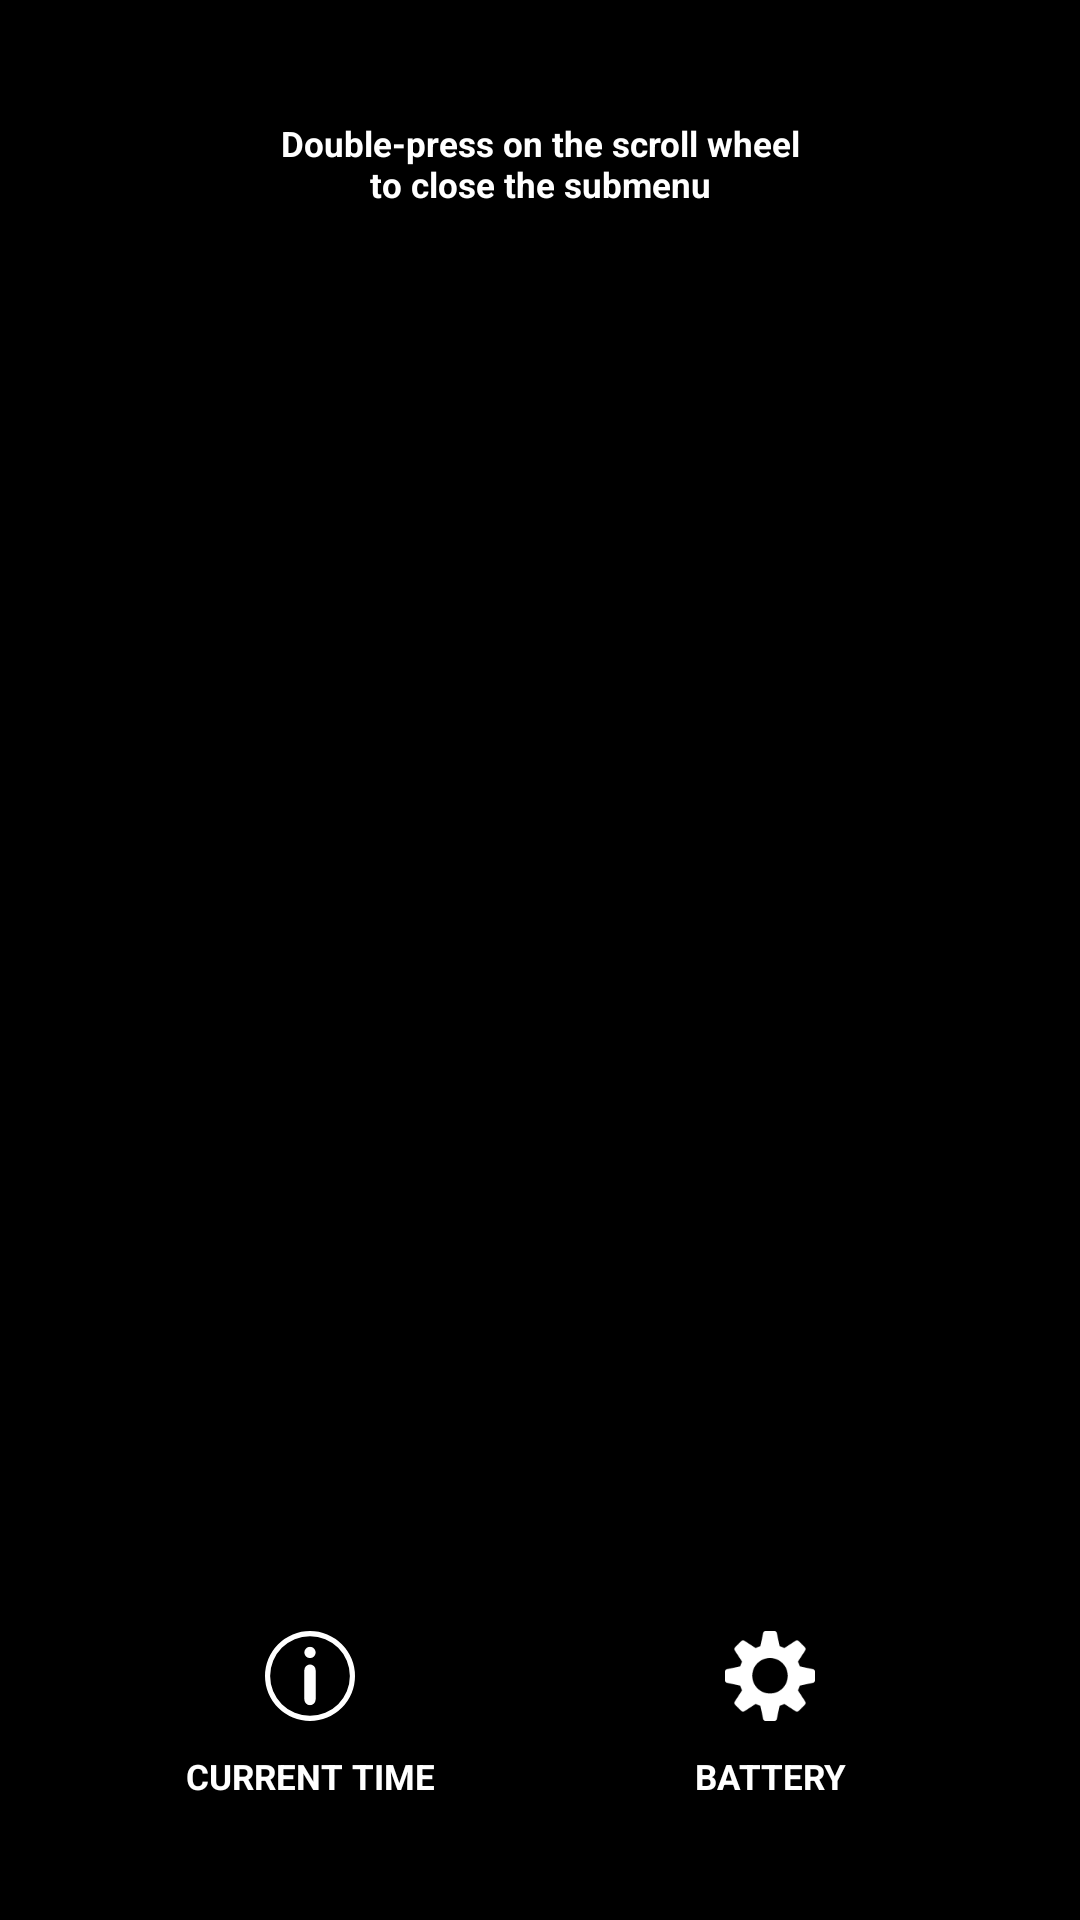

Icon click points for this 1080px×1920px phone screenshot, format (x=x, y=y):
about: (x=310, y=1676)
